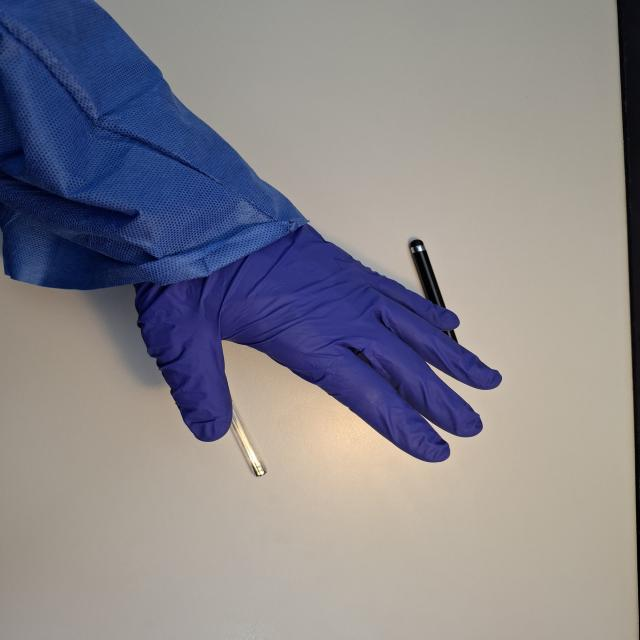glove_on: (126, 222, 507, 466)
